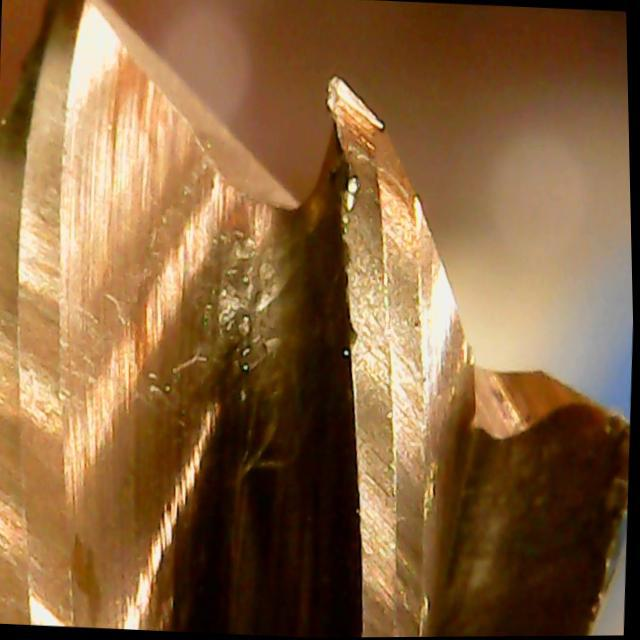Tool-wear-class-1: (288, 67, 469, 357)
